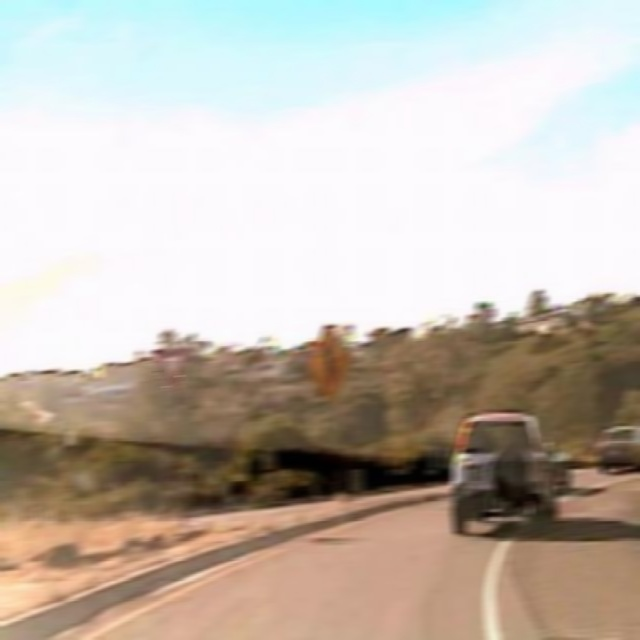merge: (308, 322, 351, 403)
yield: (151, 344, 187, 390)
